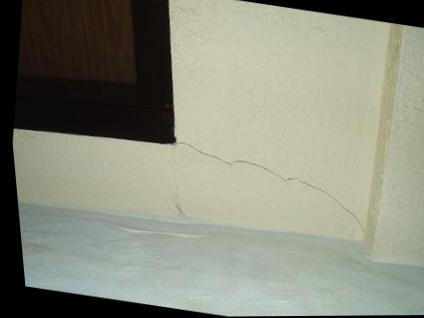crack: (174, 142, 359, 230)
